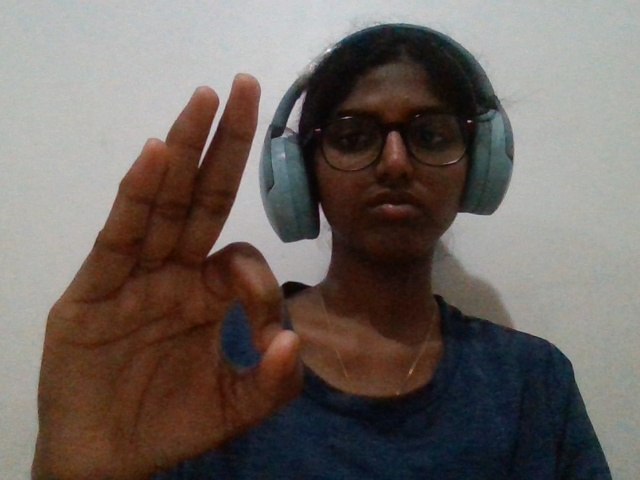F: (22, 56, 320, 480)
